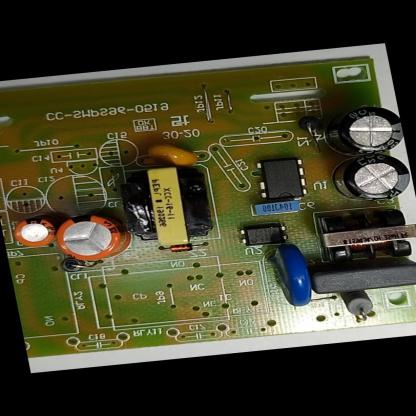Cap1: (50, 210, 131, 264)
Cap2: (11, 216, 55, 248)
Cap3: (328, 151, 415, 205)
Cap4: (320, 102, 406, 158)
MOSFET: (253, 158, 310, 201)
Mov: (267, 243, 318, 309)
Resistor: (336, 288, 378, 324)
Transformer: (116, 161, 220, 251), (312, 202, 416, 265)
